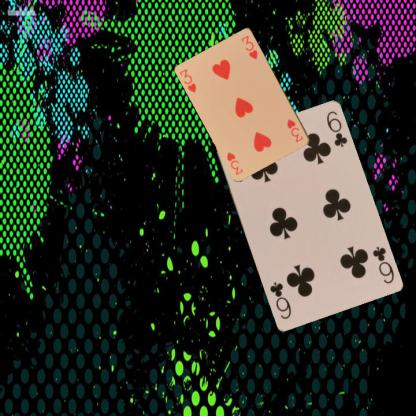3h: (176, 67, 198, 94), (285, 117, 304, 144)
6c: (369, 243, 395, 285)
